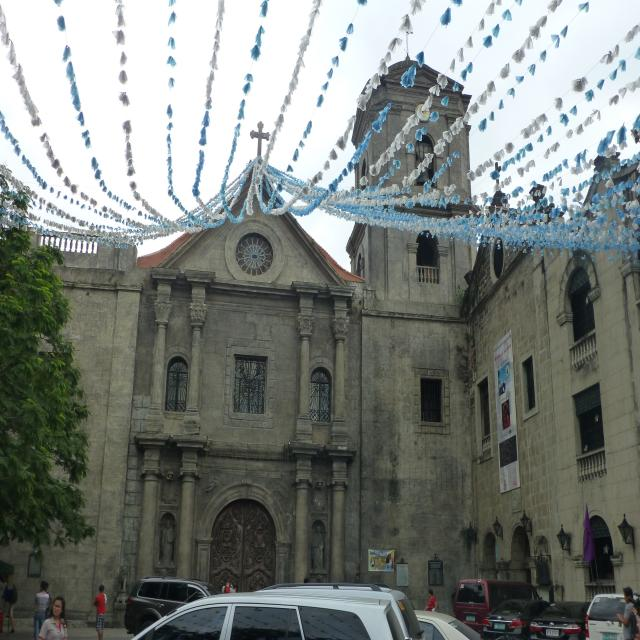San Agustin Church: (7, 51, 480, 629)
